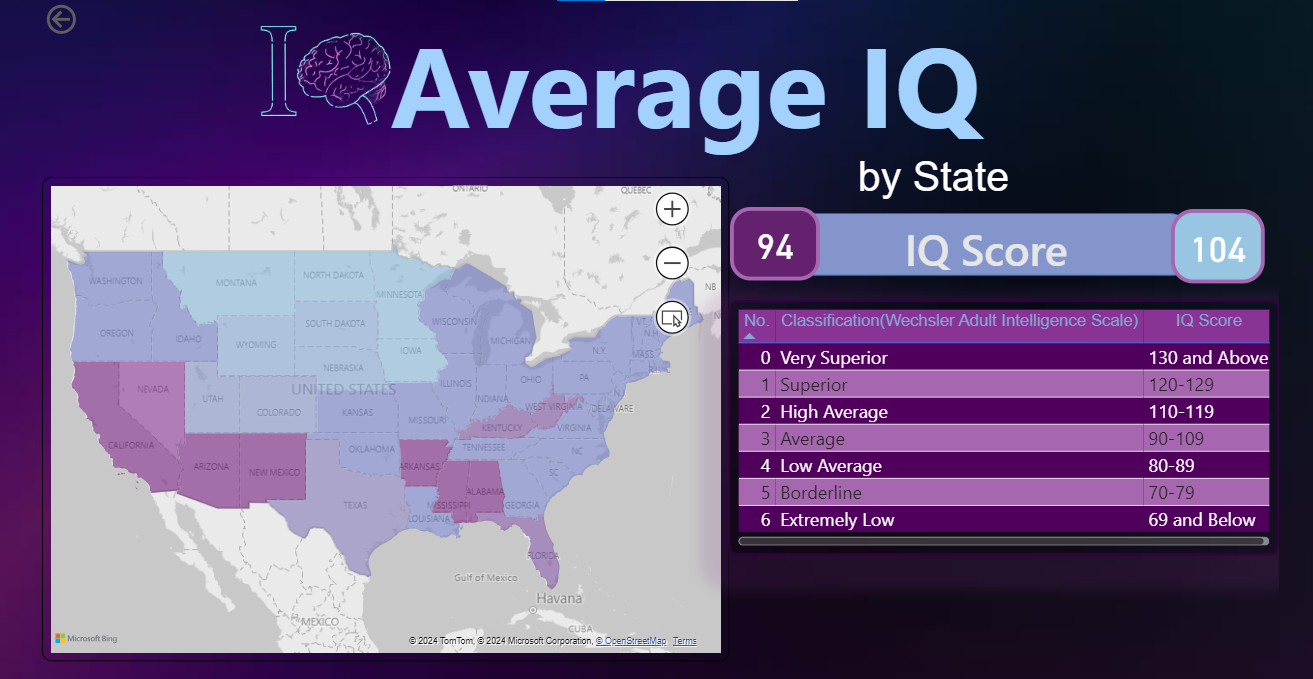

This screenshot's page, from the dashboard's own definition file:
{"tool":"powerbi","page":{"name":"Page 1","canvas":[1280,720],"ordinal":0},"visuals":[{"type":"filledMap","fields":{"Category":["IQ Level by State.State"]},"box":[0,182.9,711.4,501.1],"z":0},{"type":"shape","box":[766.4,221.3,428.3,65],"z":0,"group":"g2"},{"type":"textbox","box":[355.7,0,894.3,285.7],"z":1000},{"type":"group","id":"g1","title":"Group 1","box":[711.4,214.6,553.3,78.3],"z":1000,"group":"g2"},{"type":"image","box":[197.1,10,190,142.9],"z":2000},{"type":"actionButton","box":[0,0,100,40],"z":3000},{"type":"textbox","box":[838.6,152.9,267.1,60],"z":4000},{"type":"group","id":"g2","title":"Group 2","box":[711.4,214.6,553,77.8],"z":5000},{"type":"card","fields":{"Values":["IQ Level by State.Max IQ"]},"box":[1168.1,216.3,96.7,76.7],"z":6000,"group":"g1"},{"type":"tableEx","fields":{"Values":["Sum(Classification.Index)","Classification.Classification(Wechsler Adult Intelligence Scale)","Classification.IQ Score"]},"box":[710,310,570,264.3],"z":6000},{"type":"card","fields":{"Values":["IQ Level by State.Min IQ"]},"box":[711.4,214.6,92.9,75.7],"z":7000,"group":"g1"}]}

Visuals, with their boxes on the page's 1280x720 design canvas (x1, y1, x2, y2). These are canvas units, not pixel positions in the 1313x679 screenshot, which may show the page scaled, cropped or inside an application window:
filledMap - IQ Level by State.State: pyautogui.locateOnScreen(0, 183, 711, 684)
shape: pyautogui.locateOnScreen(766, 221, 1195, 286)
textbox: pyautogui.locateOnScreen(356, 0, 1250, 286)
"Group 1" group: pyautogui.locateOnScreen(711, 215, 1265, 293)
image: pyautogui.locateOnScreen(197, 10, 387, 153)
actionButton: pyautogui.locateOnScreen(0, 0, 100, 40)
textbox: pyautogui.locateOnScreen(839, 153, 1106, 213)
"Group 2" group: pyautogui.locateOnScreen(711, 215, 1264, 292)
card - IQ Level by State.Max IQ: pyautogui.locateOnScreen(1168, 216, 1265, 293)
tableEx - Sum(Classification.Index) x Classification.Classification(Wechsler Adult Intelligence Scale): pyautogui.locateOnScreen(710, 310, 1280, 574)
card - IQ Level by State.Min IQ: pyautogui.locateOnScreen(711, 215, 804, 290)
